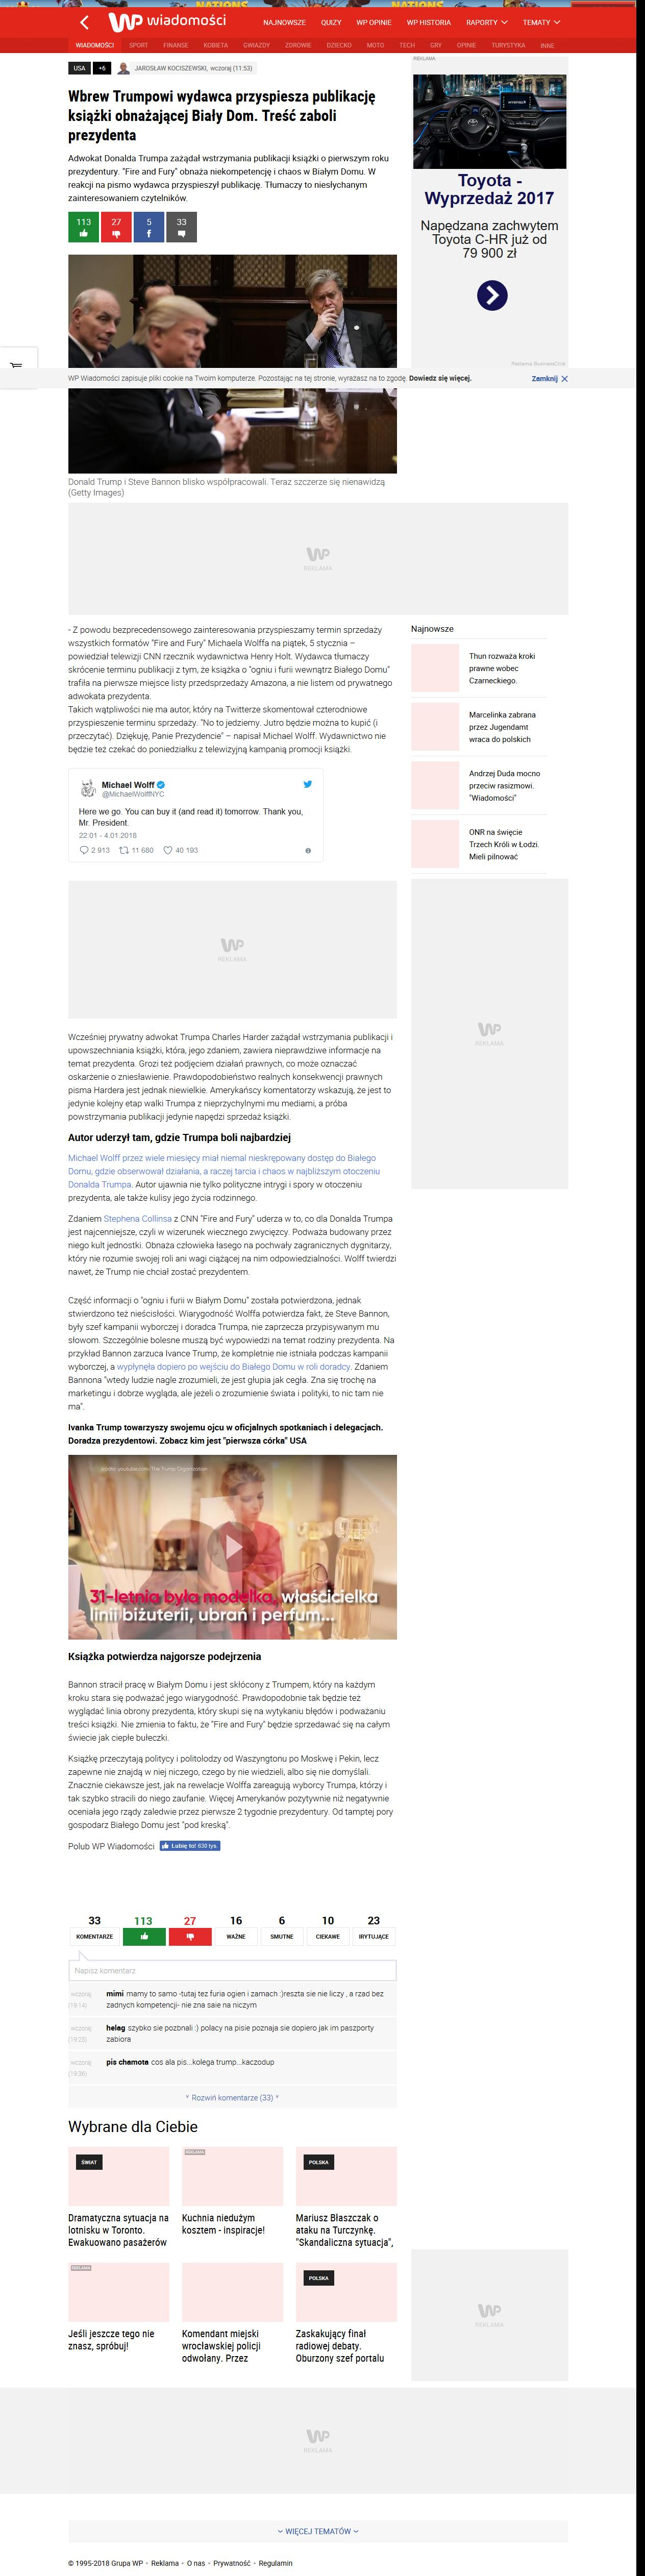title: (67, 89, 376, 143)
